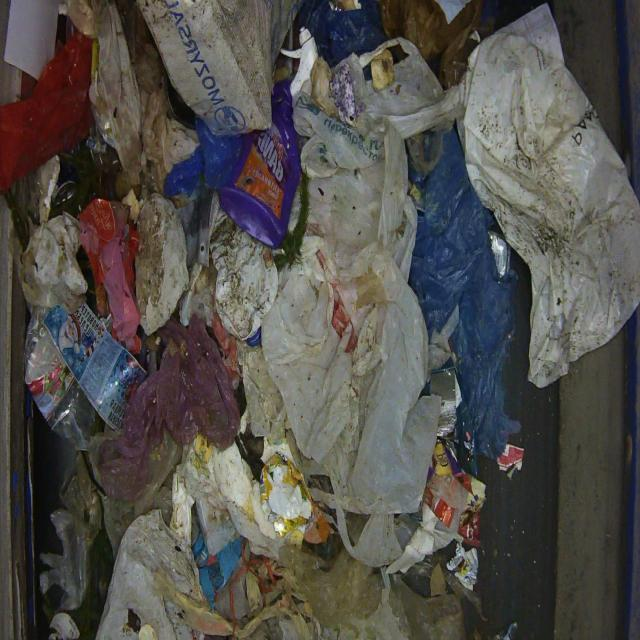cardboard: (3, 0, 637, 639)
